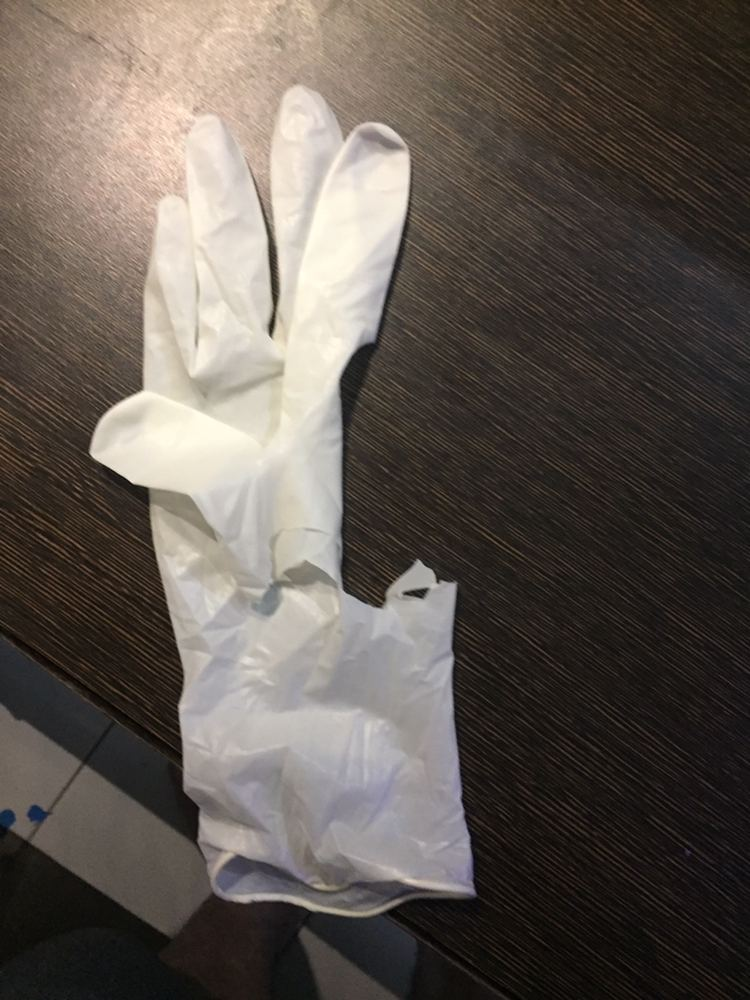defected: (110, 50, 527, 910)
